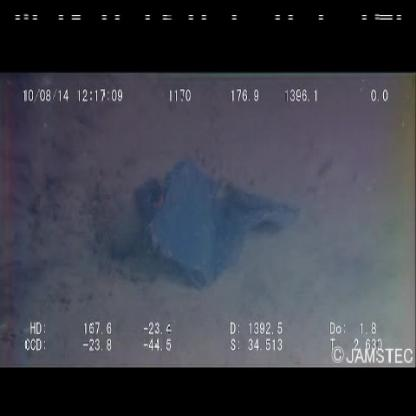Rác: (136, 155, 303, 291)
